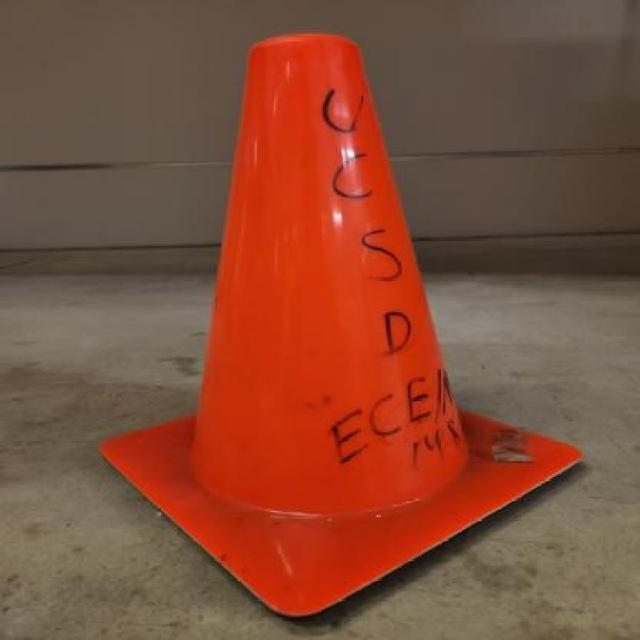traffic cone: (87, 24, 595, 624)
